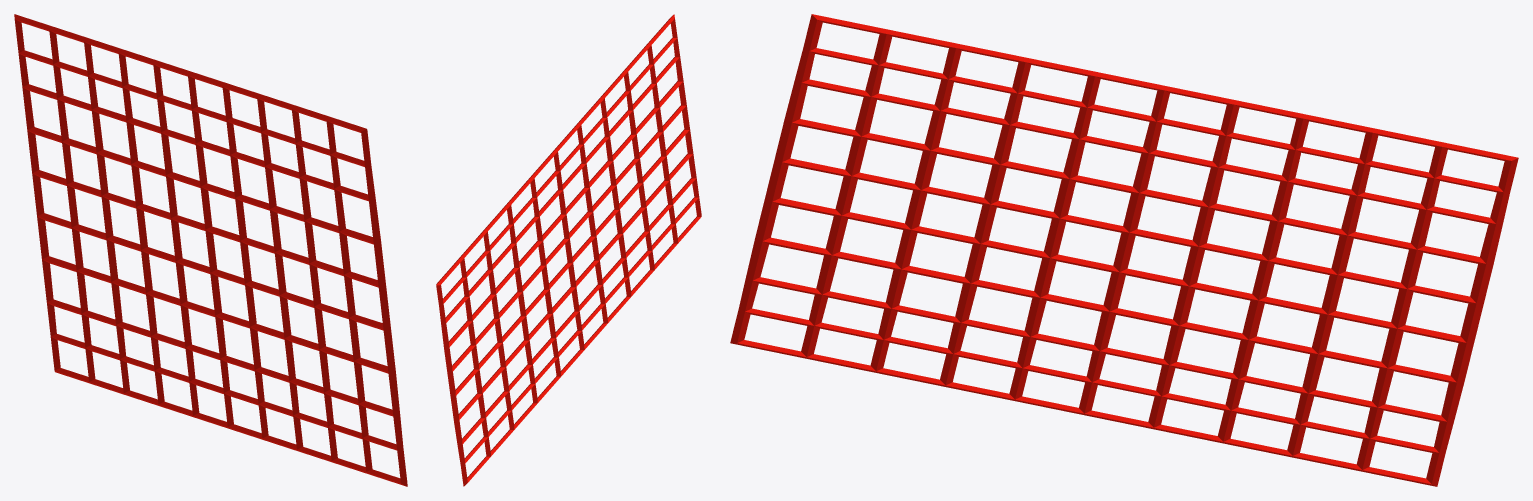
The model's file is Sidewall.fbx.
3 views of the same model, side by side, from view 1: azimuth 30°, elevation 25°; view 2: azimuth 150°, elevation 25°; view 3: azimuth 270°, elevation 25° (orthographic). The views are drawn at different scales.
Visible parts, largest first — view 1: SideWall; view 2: SideWall; view 3: SideWall.
Boxes of the visible parts, box(x1,y1,x2,y2) form: SideWall: box(14, 14, 407, 486); SideWall: box(436, 14, 701, 486); SideWall: box(730, 14, 1518, 486).
Size of the model in its own units: 2.94 by 177 by 268.
